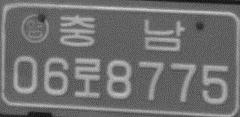0: (12, 55, 38, 95)
5: (201, 63, 229, 105)
6: (42, 56, 69, 96)
7: (137, 59, 165, 101), (169, 61, 196, 103)
8: (105, 59, 132, 100)
로: (74, 57, 102, 100)
영: (20, 12, 49, 43)
충남_D: (59, 13, 184, 52)
